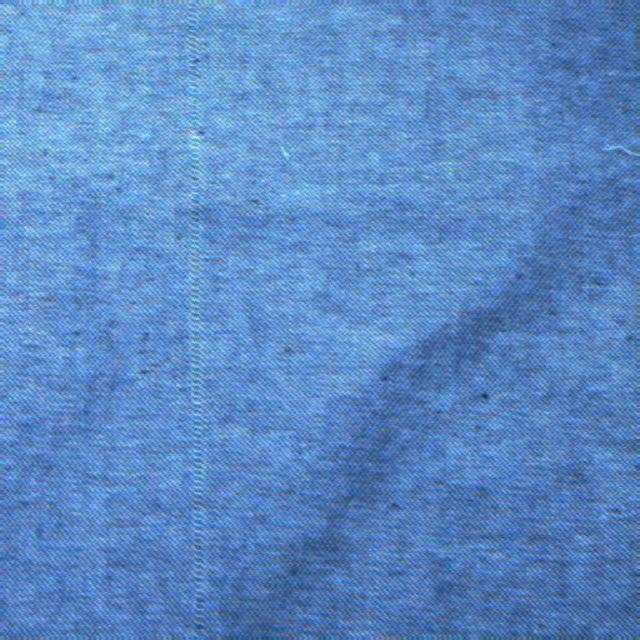defect: (185, 1, 199, 640)
